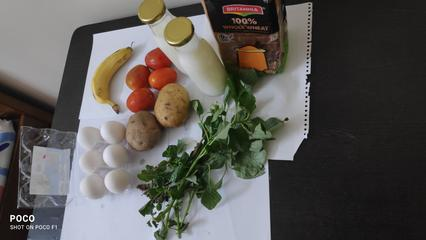banana: (93, 43, 124, 104)
bread: (202, 1, 298, 82)
eggs: (74, 127, 130, 196)
milk: (164, 17, 228, 102), (135, 1, 166, 39)
potato: (122, 115, 165, 149), (156, 89, 192, 124)
spinach: (155, 105, 256, 225)
tomato: (123, 64, 148, 90), (141, 46, 171, 66), (127, 86, 152, 109), (145, 67, 178, 83)
